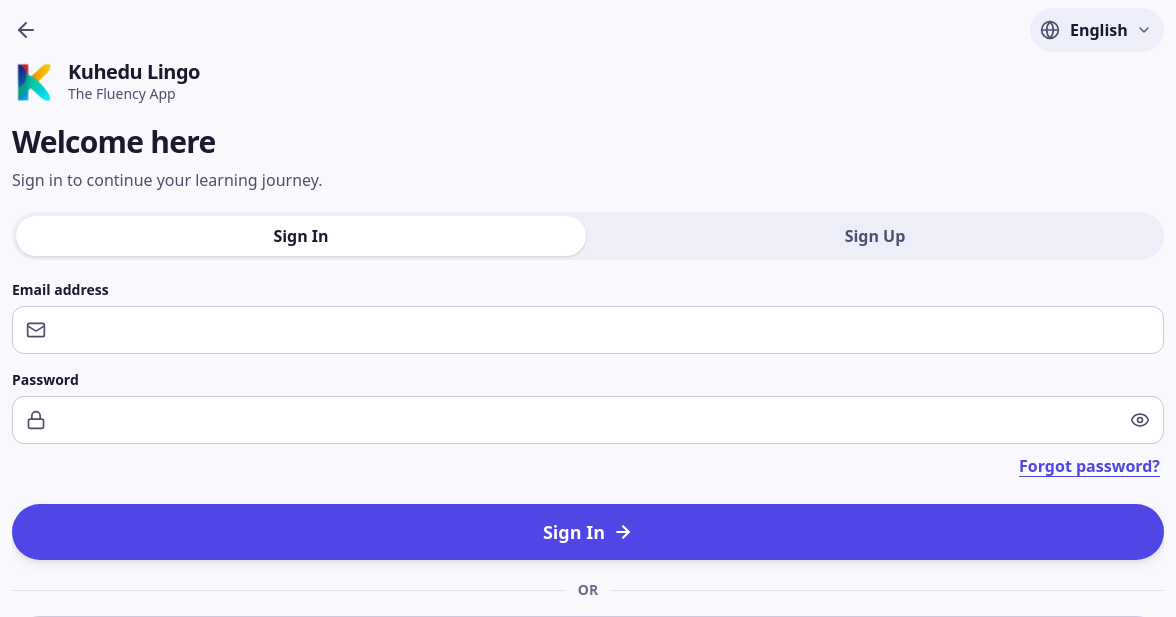
AuthPage › asks for missing fields when signing in
Click the button "Sign In".
click(588, 532)  # box x1=12 y1=504 x2=1164 y2=560
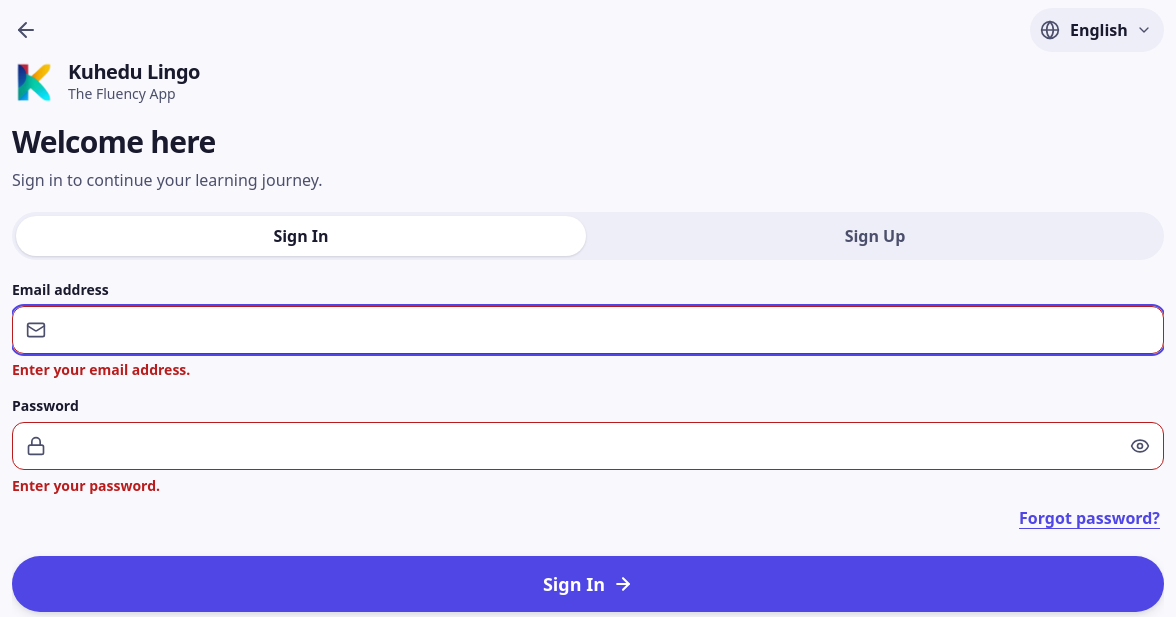
Expected: the text "Enter your email address." is shown, x1=12 y1=360 x2=190 y2=379
Expected: the text "Enter your password." is shown, x1=12 y1=476 x2=160 y2=495
